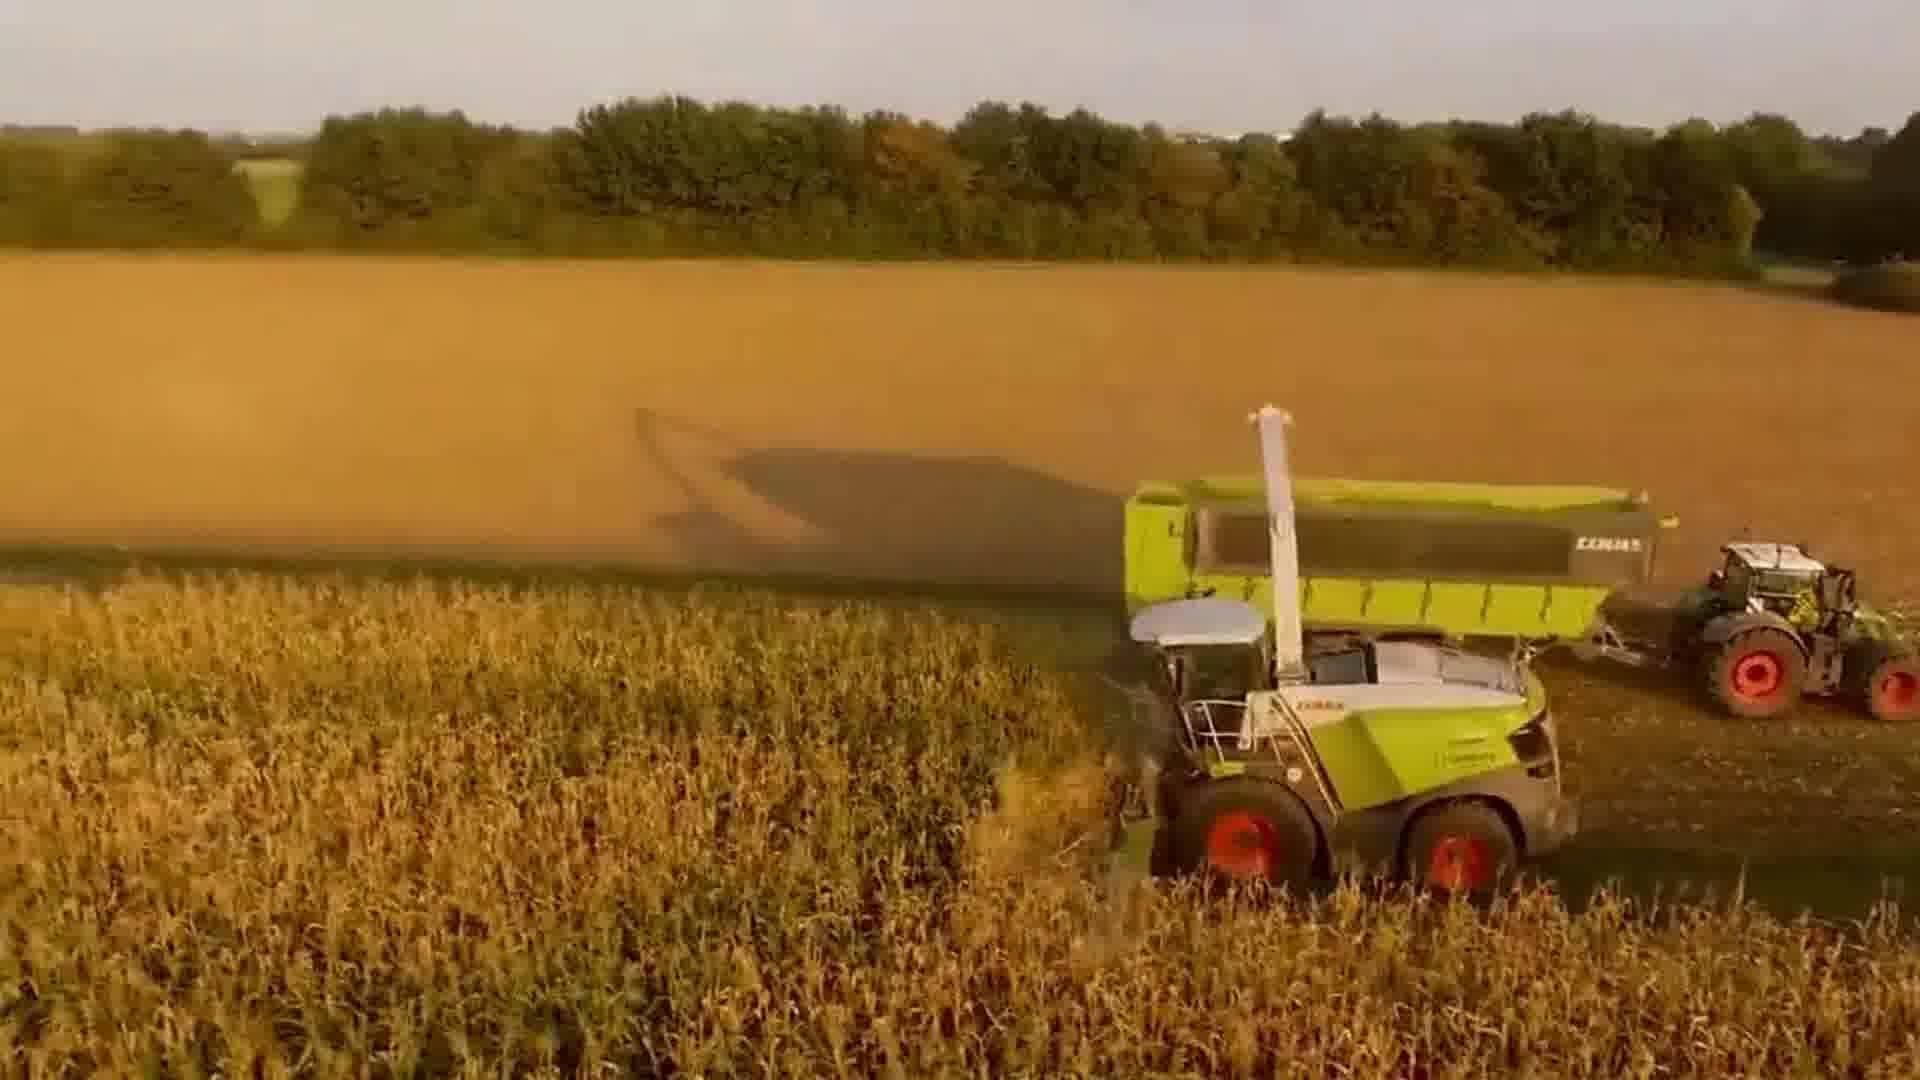combine harvester: (1065, 394, 1589, 905)
tractor: (1671, 535, 1920, 731)
trailer: (1113, 469, 1684, 641)
